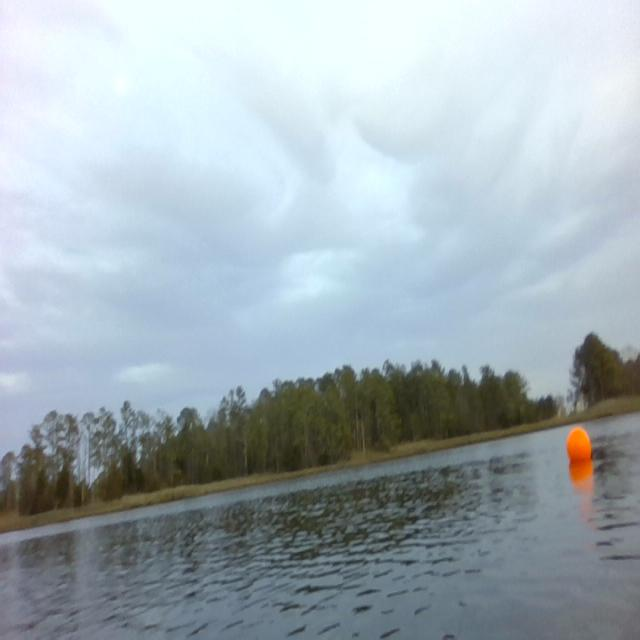Buoy: (564, 424, 594, 470)
